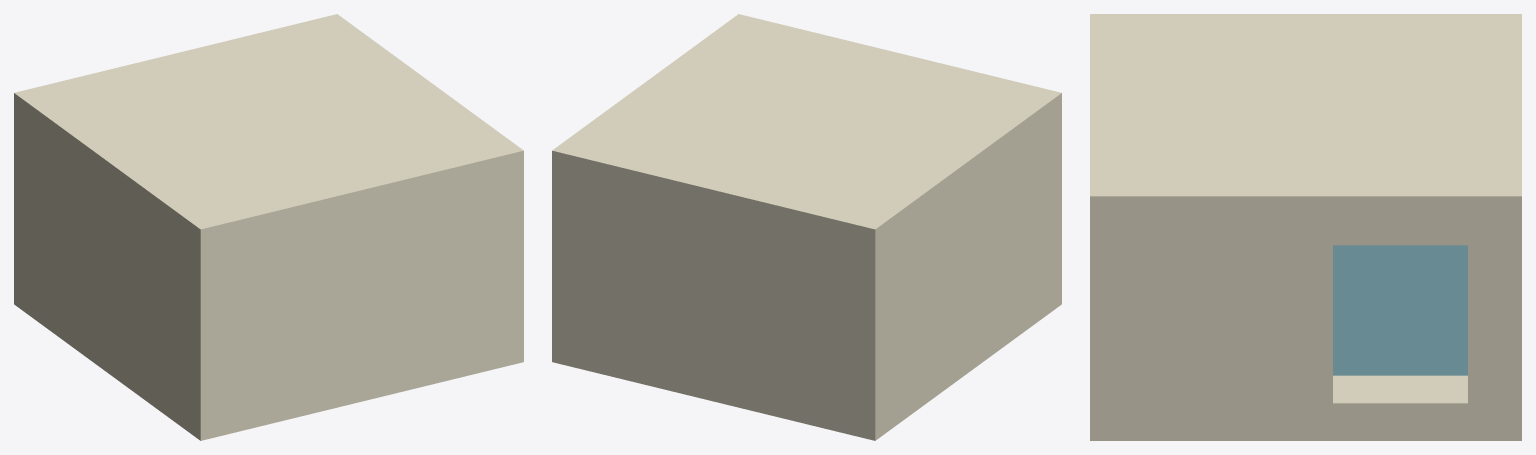
Rendered from building_055.obj.
The picture shows the model from 3 angles, left to right: view 1: azimuth 30°, elevation 25°; view 2: azimuth 150°, elevation 25°; view 3: azimuth 270°, elevation 25°; orthographic projection. The views are drawn at different scales.
Visible parts, largest first — view 1: building_055; view 2: building_055; view 3: building_055.
Boxes of the visible parts, x1,y1,x2,y2 form: building_055: (14,14,523,440); building_055: (552,14,1061,440); building_055: (1090,14,1521,440).
Bounding box in the file's own units: 1.05 × 0.625 × 1.
